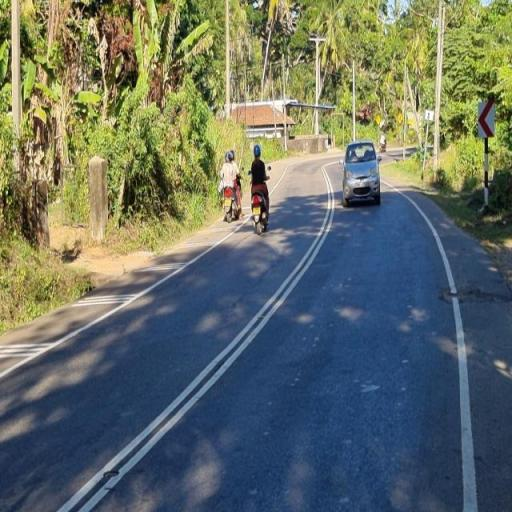double_white_line: (58, 164, 338, 512)
